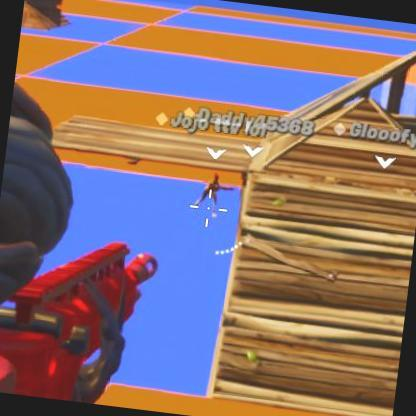person: (204, 176, 222, 213)
